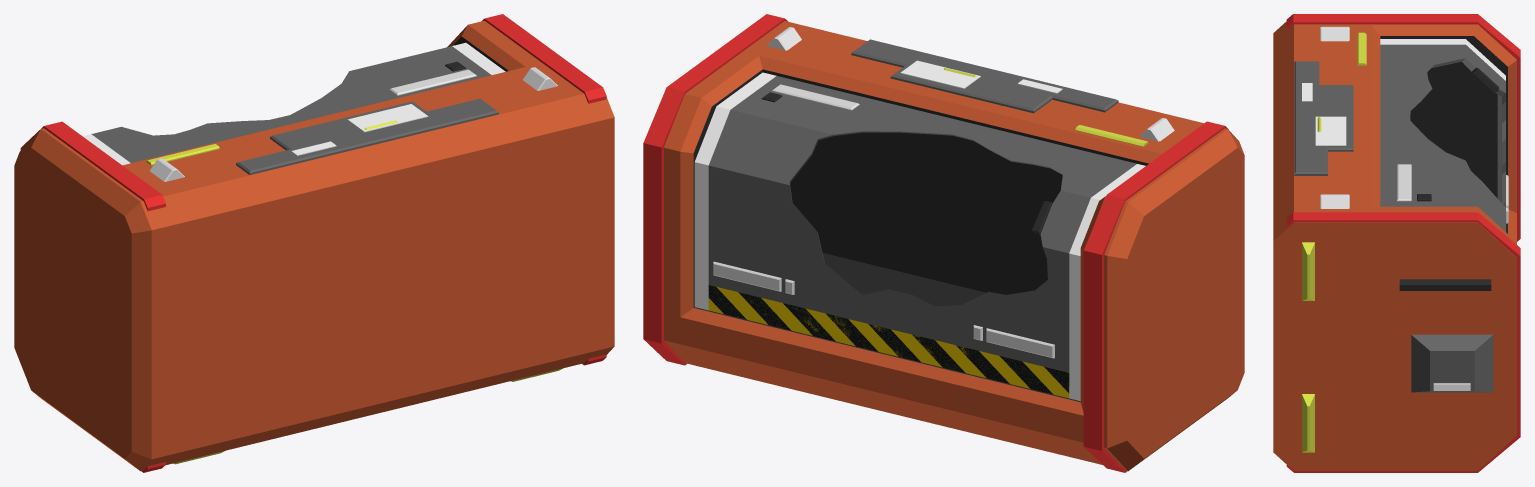
Rendered from cargoBroken01.fbx.
3 views of the same model, side by side, from view 1: azimuth 30°, elevation 25°; view 2: azimuth 150°, elevation 25°; view 3: azimuth 270°, elevation 25° (orthographic). The views are drawn at different scales.
Parts seen in each view (by area): view 1: Cube.045, Cube.046; view 2: Cube.045, Cube.046; view 3: Cube.045, Cube.046.
Boxes of the visible parts, x1=… form: Cube.045: x1=14, y1=14, x2=614, y2=472; Cube.046: x1=83, y1=42, x2=505, y2=165; Cube.045: x1=643, y1=14, x2=1244, y2=472; Cube.046: x1=694, y1=72, x2=1145, y2=400; Cube.045: x1=1273, y1=14, x2=1520, y2=472; Cube.046: x1=1380, y1=39, x2=1508, y2=231.
Bounding box in the file's own units: 591 × 328 × 277.
